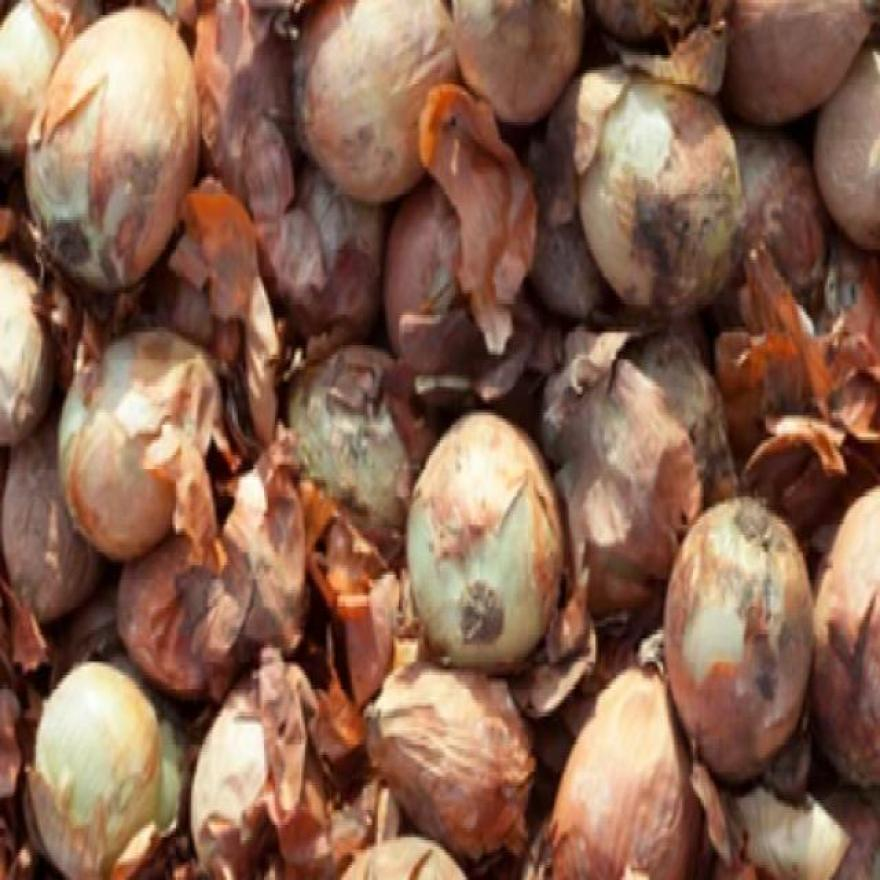Rotten: (316, 697, 450, 849), (277, 376, 369, 526), (639, 174, 717, 306), (720, 496, 790, 598)
